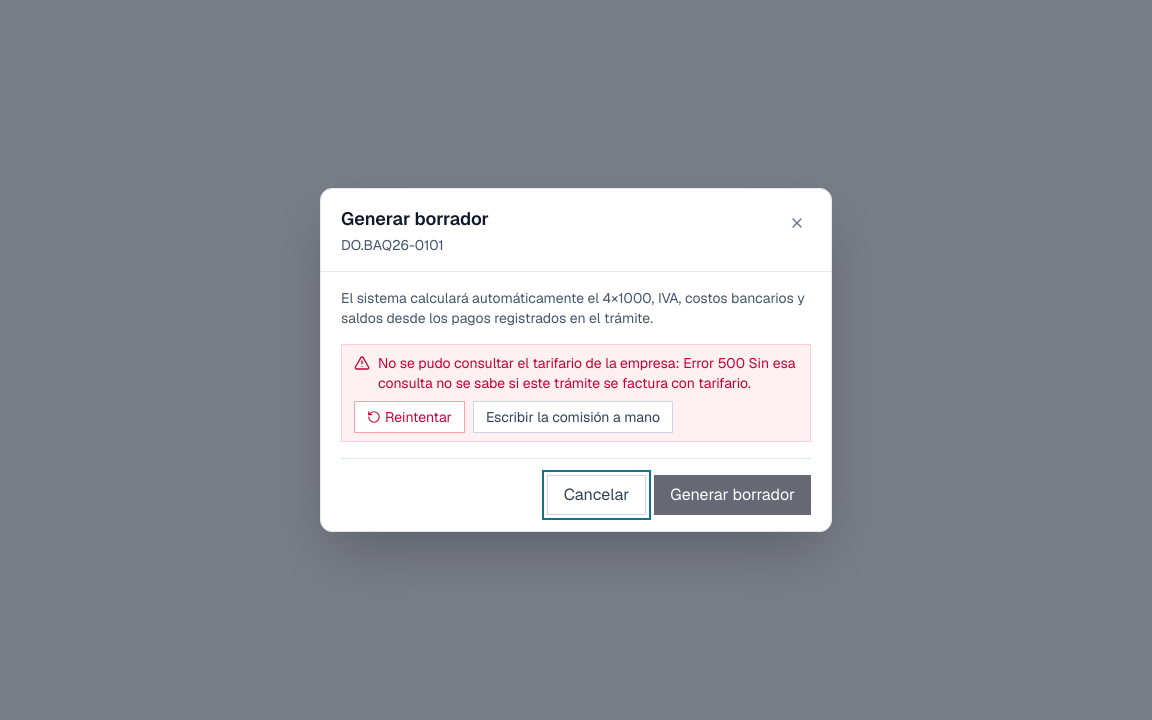
it: GenerarBorradorModal — falla la consulta del tarifario › no genera a ciegas: ofrece reintentar o escribir la comisión a mano
The width and height of the screenshot is (1152, 720).
Expected: the submit button is disabled, [654,475,811,515]
Click the button "Reintentar" at (409,417), box [354,401,465,433]
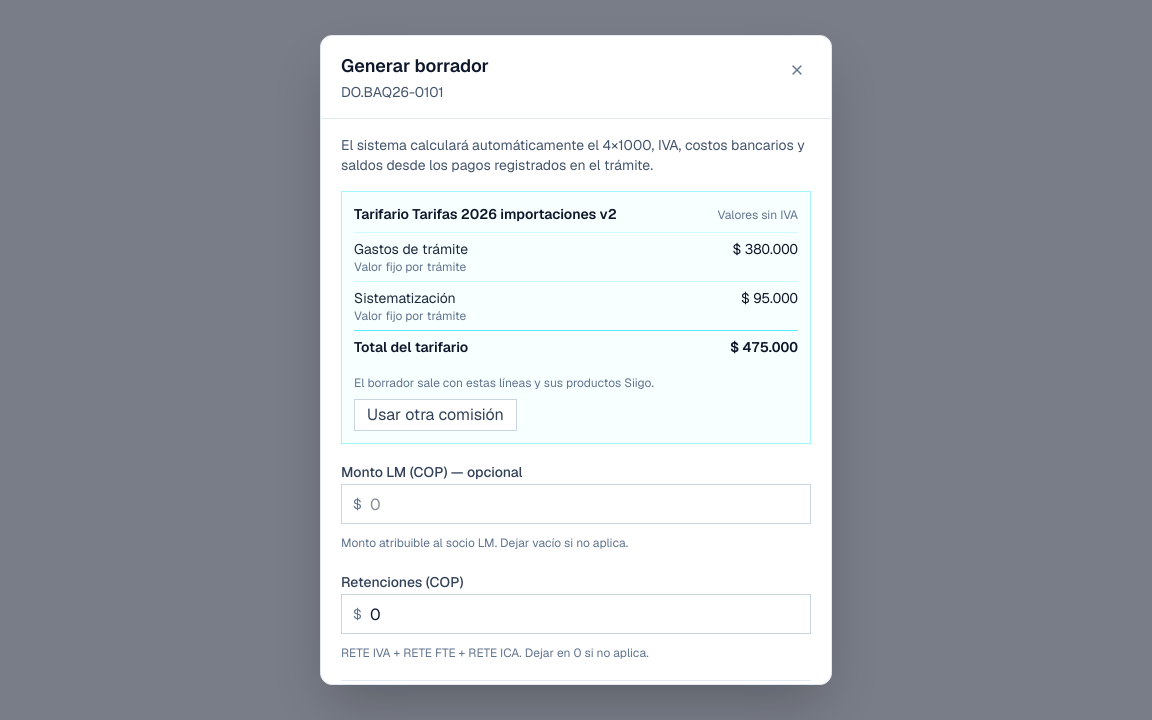
Now the text "Tarifario Tarifas 2026 importaciones v2" is shown, box [354,204,617,224]
